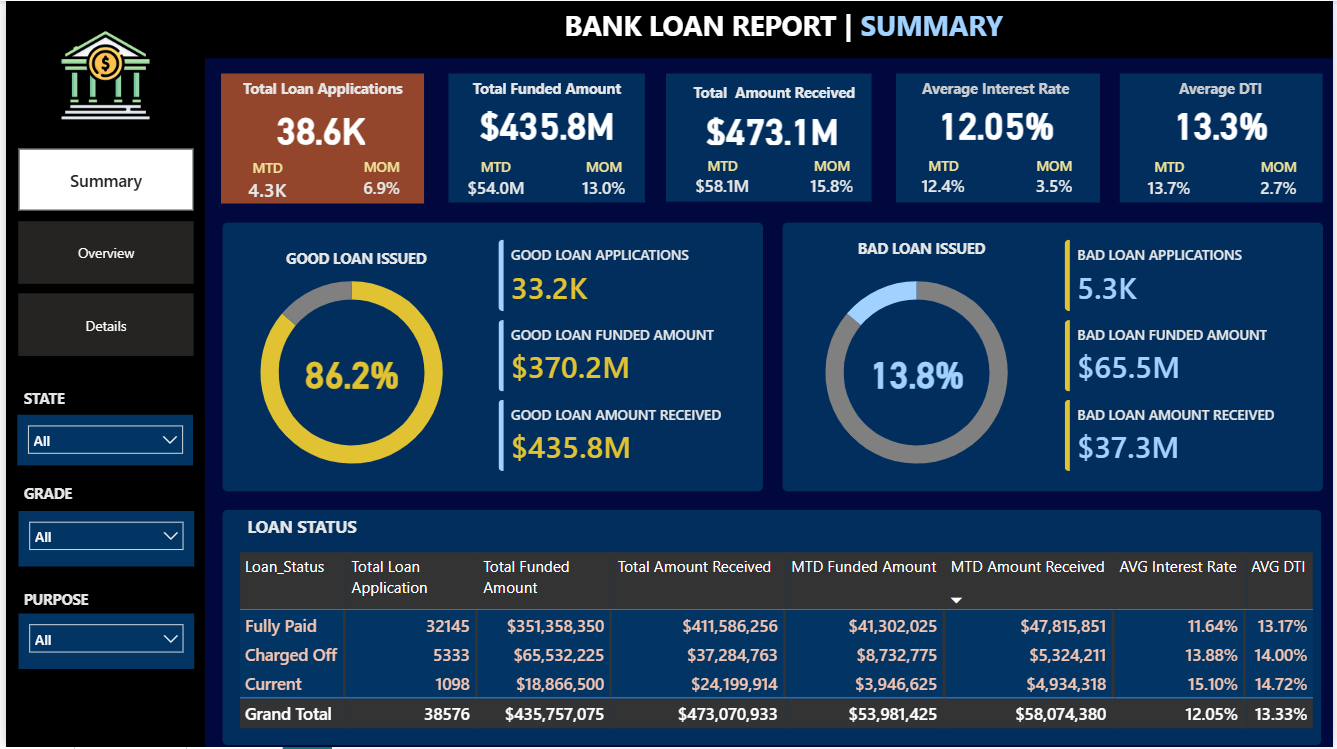

This screenshot's page, from the dashboard's own definition file:
{"tool":"powerbi","page":{"name":"Summary","canvas":[1280,720],"ordinal":0},"visuals":[{"type":"shape","box":[0,0,192.3,720.8],"z":0},{"type":"shape","box":[208.5,69.9,196.3,125.5],"z":0,"group":"g1"},{"type":"shape","box":[426.9,69.9,189.6,124.6],"z":0,"group":"g2"},{"type":"shape","box":[636.8,69.9,198.4,123.7],"z":0,"group":"g3"},{"type":"shape","box":[858.3,69.9,197,124.5],"z":0,"group":"g4"},{"type":"shape","box":[1075,69.9,195.9,124.4],"z":0,"group":"g5"},{"type":"shape","box":[0,0,1280.3,54.9],"z":1000},{"type":"cardVisual","fields":{"Data":["Bank_Loan_Data.Total Loan Application"]},"box":[208,78.1,193.7,92.8],"z":1000,"group":"g1"},{"type":"cardVisual","fields":{"Data":["Bank_Loan_Data.Total Funded Amount"]},"box":[426.6,88,190.9,64.9],"z":1000,"group":"g2"},{"type":"cardVisual","fields":{"Data":["Bank_Loan_Data.AVG Interest Rate"]},"box":[856.3,88.1,198.3,64.6],"z":1000,"group":"g4"},{"type":"cardVisual","fields":{"Data":["Bank_Loan_Data.AVG DTI"]},"box":[1074.5,88.2,195.8,64.6],"z":1000,"group":"g5"},{"type":"cardVisual","fields":{"Data":["Bank_Loan_Data.Total Amount Received"]},"box":[642.4,95.8,193.3,61.4],"z":1000,"group":"g3"},{"type":"textbox","box":[208.5,69.9,196.3,32],"z":2000,"group":"g1"},{"type":"textbox","box":[426.9,69.9,189.6,31.8],"z":2000,"group":"g2"},{"type":"textbox","box":[856.6,70.1,196.9,31.7],"z":2000,"group":"g4"},{"type":"textbox","box":[1074.8,70.2,194.5,31.6],"z":2000,"group":"g5"},{"type":"textbox","box":[645.2,74,192,30.1],"z":2000,"group":"g3"},{"type":"shape","box":[208.4,213.8,522,260],"z":2000},{"type":"cardVisual","title":"MTD","fields":{"Data":["Bank_Loan_Data.MTD Amount Received"]},"box":[655.2,150,73,41.3],"z":3000,"group":"g3"},{"type":"cardVisual","title":"MTD","fields":{"Data":["Bank_Loan_Data.MTD AVG Interest Rate"]},"box":[866.9,150.1,74.8,43.5],"z":3000,"group":"g4"},{"type":"cardVisual","title":"MTD","fields":{"Data":["Bank_Loan_Data.MTD AVG DTI"]},"box":[1085,150.2,73.9,43.5],"z":3000,"group":"g5"},{"type":"cardVisual","title":"MTD","fields":{"Data":["Bank_Loan_Data.MTD Funded Amount"]},"box":[436.8,150.3,72.1,43.7],"z":3000,"group":"g2"},{"type":"cardVisual","title":"MTD","fields":{"Data":["Bank_Loan_Data.MTD Loan Applications"]},"box":[217.6,151.3,70.7,44.1],"z":3000,"group":"g1"},{"type":"textbox","box":[12.1,369.3,84.9,53.9],"z":3000},{"type":"cardVisual","title":"MOM","fields":{"Data":["Bank_Loan_Data.MoM Total Amount Received"]},"box":[758.3,150,76.8,42.6],"z":4000,"group":"g3"},{"type":"cardVisual","title":"MOM","fields":{"Data":["Bank_Loan_Data.MoM AVG Int Rate"]},"box":[972.6,150.1,78.8,44.8],"z":4000,"group":"g4"},{"type":"cardVisual","title":"MOM","fields":{"Data":["Bank_Loan_Data.MoM AVG DTI"]},"box":[1189.4,150.2,77.8,44.8],"z":4000,"group":"g5"},{"type":"cardVisual","title":"MOM","fields":{"Data":["Bank_Loan_Data.MoM Total Funded Amount"]},"box":[538.6,150.3,75.9,45.1],"z":4000,"group":"g2"},{"type":"cardVisual","title":"MOM","fields":{"Data":["Bank_Loan_Data.MoM Loan Application"]},"box":[324.1,150.9,78.5,45.4],"z":4000,"group":"g1"},{"type":"cardVisual","fields":{"Data":["Bank_Loan_Data.Good Loan %"]},"box":[252.8,328.1,161.4,64.6],"z":4000},{"type":"textbox","box":[192.3,0,1088,55.1],"z":5000},{"type":"group","id":"g1","title":"Group 1","box":[208,69.9,196.8,126.4],"z":6000},{"type":"group","id":"g2","title":"Group 1","box":[426.6,69.9,191,126.4],"z":7000},{"type":"group","id":"g3","title":"Group 1","box":[636.8,69.9,200.4,123.7],"z":8000},{"type":"shape","box":[749.1,213.8,522,260],"z":9000},{"type":"group","id":"g4","title":"Group 1","box":[856.3,69.9,199,125.1],"z":10000},{"type":"donutChart","fields":{"Category":["Bank_Loan_Data.Good Loan VS Bad Loan"],"Y":["Bank_Loan_Data.Total Loan Application"]},"box":[208.4,243.4,250,230],"z":11000},{"type":"donutChart","fields":{"Category":["Bank_Loan_Data.Good Loan VS Bad Loan"],"Y":["Bank_Loan_Data.Total Loan Application"]},"box":[754.4,243.4,250,230],"z":12000},{"type":"group","id":"g5","title":"Group 1","box":[1074.5,69.9,196.3,125.1],"z":13000},{"type":"cardVisual","fields":{"Data":["Bank_Loan_Data.GOOD LOAN APPLICATIONS","Bank_Loan_Data.GOOD LOAN FUNDED AMOUNT","Bank_Loan_Data.GOOD LOAN AMOUNT RECEIVED"]},"box":[458.6,213.8,269,259.6],"z":14000},{"type":"cardVisual","fields":{"Data":["Bank_Loan_Data.BAD LOAN APPLICATIONS","Bank_Loan_Data.BAD LOAN FUNDED AMOUNT","Bank_Loan_Data.BAD LOAN AMOUNT RECEIVED"]},"box":[1004.6,213.8,269,259.6],"z":15000},{"type":"cardVisual","fields":{"Data":["Bank_Loan_Data.Bad Loan %"]},"box":[798.8,328.1,161.4,64.6],"z":16000},{"type":"textbox","box":[785.4,224.6,196.3,29.6],"z":17000},{"type":"shape","box":[208.4,490.9,1061.1,227.3],"z":18000},{"type":"tableEx","fields":{"Values":["Bank_Loan_Data.loan_status","Bank_Loan_Data.Total Loan Application","Bank_Loan_Data.Total Funded Amount","Bank_Loan_Data.Total Amount Received","Bank_Loan_Data.MTD Funded Amount","Bank_Loan_Data.MTD Amount Received","Bank_Loan_Data.AVG Interest Rate","Bank_Loan_Data.AVG DTI"]},"box":[219.2,527.2,1058.4,181.6],"z":19000},{"type":"textbox","box":[228.6,490.9,228.6,36.3],"z":20000},{"type":"textbox","box":[218.4,234.6,239.4,40.3],"z":21000},{"type":"slicer","fields":{"Values":["Bank_Loan_Data.address_state"]},"box":[10.8,398.9,169.8,48.5],"z":22000},{"type":"slicer","fields":{"Values":["Bank_Loan_Data.grade"]},"box":[12.1,492.7,169.4,53.8],"z":23000},{"type":"textbox","box":[12.1,461.3,72.6,48.4],"z":24000},{"type":"textbox","box":[12.1,563.5,83.4,28.2],"z":25000},{"type":"slicer","fields":{"Values":["Bank_Loan_Data.purpose"]},"box":[12.1,591.7,169.4,53.8],"z":26000},{"type":"pageNavigator","box":[12.1,142.9,169.8,200.8],"z":27000},{"type":"image","box":[10.8,27,169.8,90.3],"z":28000}]}

Visuals, with their boxes in screenshot pixels (x1, y1, x2, y2), scaled from the page's 1280x720 canvas onto the 1337x749 screenshot:
shape: bbox=[0, 0, 201, 748]
shape: bbox=[218, 73, 423, 203]
shape: bbox=[446, 73, 644, 202]
shape: bbox=[665, 73, 872, 201]
shape: bbox=[897, 73, 1102, 202]
shape: bbox=[1123, 73, 1327, 202]
shape: bbox=[0, 0, 1336, 57]
cardVisual - Bank_Loan_Data.Total Loan Application: bbox=[217, 81, 420, 178]
cardVisual - Bank_Loan_Data.Total Funded Amount: bbox=[446, 92, 645, 159]
cardVisual - Bank_Loan_Data.AVG Interest Rate: bbox=[894, 92, 1102, 159]
cardVisual - Bank_Loan_Data.AVG DTI: bbox=[1122, 92, 1327, 159]
cardVisual - Bank_Loan_Data.Total Amount Received: bbox=[671, 100, 873, 164]
textbox: bbox=[218, 73, 423, 106]
textbox: bbox=[446, 73, 644, 106]
textbox: bbox=[895, 73, 1100, 106]
textbox: bbox=[1123, 73, 1326, 106]
textbox: bbox=[674, 77, 874, 108]
shape: bbox=[218, 222, 763, 493]
"MTD" cardVisual: bbox=[684, 156, 761, 199]
"MTD" cardVisual: bbox=[906, 156, 984, 201]
"MTD" cardVisual: bbox=[1133, 156, 1211, 202]
"MTD" cardVisual: bbox=[456, 156, 532, 202]
"MTD" cardVisual: bbox=[227, 157, 301, 203]
textbox: bbox=[13, 384, 101, 440]
"MOM" cardVisual: bbox=[792, 156, 872, 200]
"MOM" cardVisual: bbox=[1016, 156, 1098, 203]
"MOM" cardVisual: bbox=[1242, 156, 1324, 203]
"MOM" cardVisual: bbox=[563, 156, 642, 203]
"MOM" cardVisual: bbox=[339, 157, 421, 204]
cardVisual - Bank_Loan_Data.Good Loan %: bbox=[264, 341, 433, 409]
textbox: bbox=[201, 0, 1336, 57]
"Group 1" group: bbox=[217, 73, 423, 204]
"Group 1" group: bbox=[446, 73, 645, 204]
"Group 1" group: bbox=[665, 73, 874, 201]
shape: bbox=[782, 222, 1328, 493]
"Group 1" group: bbox=[894, 73, 1102, 203]
donutChart - Bank_Loan_Data.Good Loan VS Bad Loan x Bank_Loan_Data.Total Loan Application: bbox=[218, 253, 479, 492]
donutChart - Bank_Loan_Data.Good Loan VS Bad Loan x Bank_Loan_Data.Total Loan Application: bbox=[788, 253, 1049, 492]
"Group 1" group: bbox=[1122, 73, 1327, 203]
cardVisual - Bank_Loan_Data.GOOD LOAN APPLICATIONS x Bank_Loan_Data.GOOD LOAN FUNDED AMOUNT: bbox=[479, 222, 760, 492]
cardVisual - Bank_Loan_Data.BAD LOAN APPLICATIONS x Bank_Loan_Data.BAD LOAN FUNDED AMOUNT: bbox=[1049, 222, 1330, 492]
cardVisual - Bank_Loan_Data.Bad Loan %: bbox=[834, 341, 1003, 409]
textbox: bbox=[820, 234, 1025, 264]
shape: bbox=[218, 511, 1326, 747]
tableEx - Bank_Loan_Data.loan_status x Bank_Loan_Data.Total Loan Application: bbox=[229, 548, 1334, 737]
textbox: bbox=[239, 511, 478, 548]
textbox: bbox=[228, 244, 478, 286]
slicer - Bank_Loan_Data.address_state: bbox=[11, 415, 189, 465]
slicer - Bank_Loan_Data.grade: bbox=[13, 513, 190, 569]
textbox: bbox=[13, 480, 88, 530]
textbox: bbox=[13, 586, 100, 616]
slicer - Bank_Loan_Data.purpose: bbox=[13, 616, 190, 671]
pageNavigator: bbox=[13, 149, 190, 358]
image: bbox=[11, 28, 189, 122]
